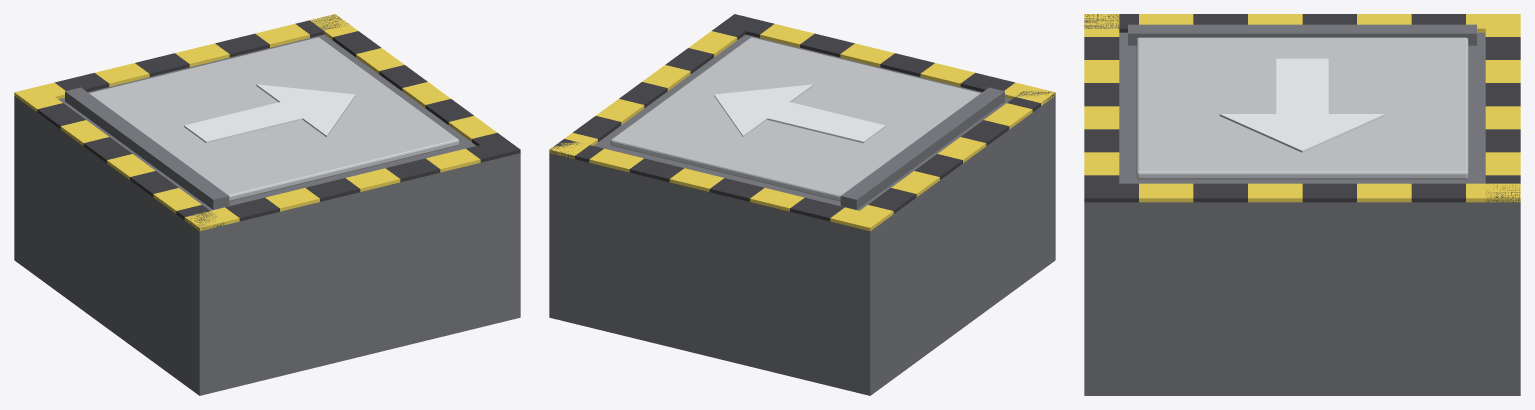
File: plate.gltf
3 views of the same model, side by side, from view 1: azimuth 30°, elevation 25°; view 2: azimuth 150°, elevation 25°; view 3: azimuth 270°, elevation 25° (orthographic). The views are drawn at different scales.
Visible parts, largest first — view 1: plate; view 2: plate; view 3: plate.
Boxes of the visible parts, x1,y1,x2,y2 form: plate: (14, 14, 520, 395); plate: (549, 14, 1055, 395); plate: (1084, 14, 1520, 395).
Size of the model in its own units: 2 by 1.04 by 2.
